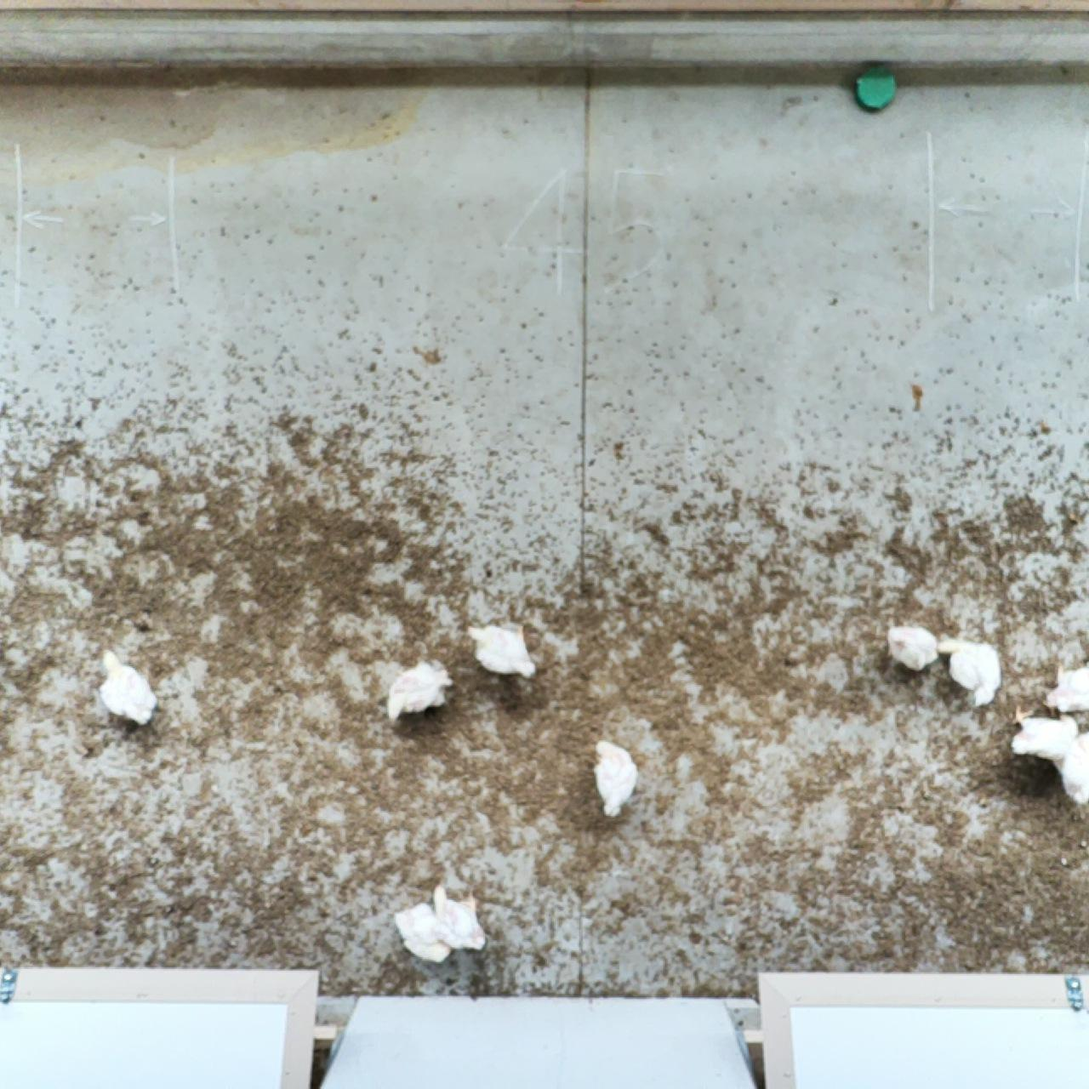chicken: (92, 645, 160, 728), (936, 632, 1006, 710), (383, 655, 456, 725), (463, 618, 539, 681), (1008, 701, 1080, 767), (429, 881, 490, 956), (590, 736, 643, 821), (391, 900, 454, 966), (884, 621, 941, 672), (1056, 724, 1089, 808), (1040, 662, 1089, 715)
